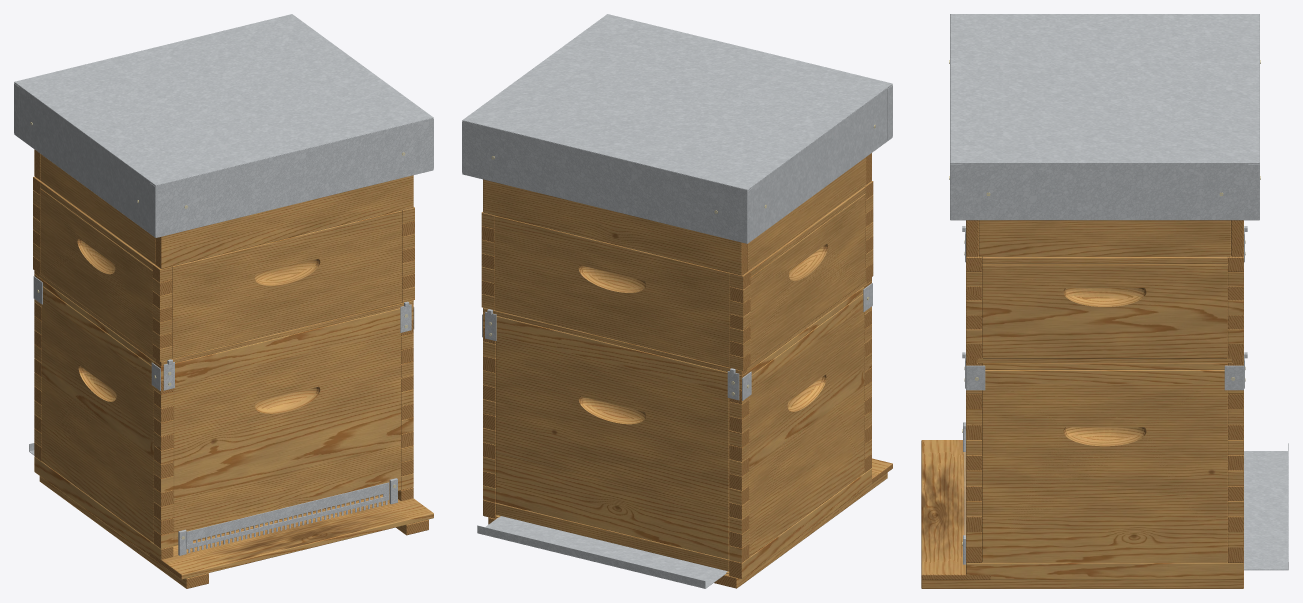
File: arnia.glb
3 views of the same model, side by side, from view 1: azimuth 30°, elevation 25°; view 2: azimuth 150°, elevation 25°; view 3: azimuth 270°, elevation 25° (orthographic). The views are drawn at different scales.
Parts seen in each view (by area): view 1: nido, tetto, melario, coprifavo, fondo, porticina, escludiregina; view 2: nido, tetto, melario, coprifavo, fondo, cassettino, escludiregina; view 3: tetto, nido, melario, fondo, coprifavo, cassettino, escludiregina.
Part boxes in pixels (x1,y1,x2,y2): nido: (33,274,414,548); tetto: (14,14,433,237); melario: (33,176,414,361); coprifavo: (34,149,413,268); fondo: (34,457,433,588); porticina: (178,478,397,555); escludiregina: (34,270,413,366); nido: (482,281,872,562); tetto: (462,14,892,243); melario: (481,181,873,370); coprifavo: (483,153,871,275); fondo: (483,458,892,588); cassettino: (477,516,727,588); escludiregina: (483,277,871,375); tetto: (949,14,1260,220); nido: (962,226,1247,562); melario: (966,256,1243,358); fondo: (921,440,1243,588); coprifavo: (966,220,1243,256); cassettino: (1244,443,1288,570); escludiregina: (966,358,1243,363).
Bounding box in the file's own units: 0.5523 × 0.754 × 0.575.
26 materials, 13 textured.
